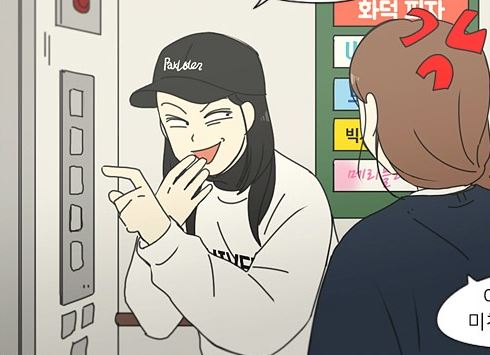hat: (130, 29, 275, 111)
